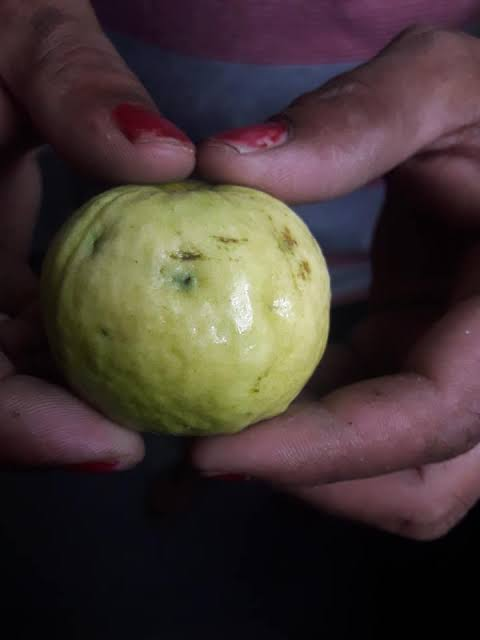guava: (24, 157, 425, 592)
